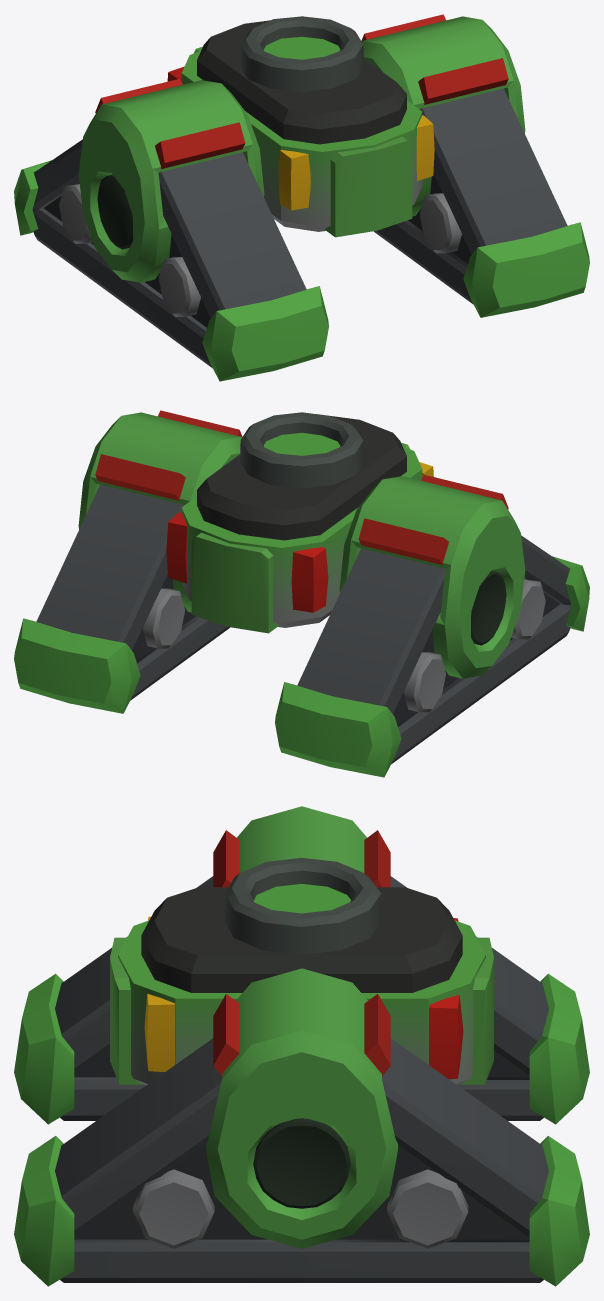
File: Caterpillar_1_LP.fbx
3 views of the same model, one above another, from view 1: azimuth 30°, elevation 25°; view 2: azimuth 150°, elevation 25°; view 3: azimuth 270°, elevation 25° (orthographic). The views are drawn at different scales.
Parts seen in each view (by area): view 1: Caterpillar_1_Base, Caterpillar_1_R, Caterpillar_1_L, Caterpillar_1; view 2: Caterpillar_1_Base, Caterpillar_1_R, Caterpillar_1_L, Caterpillar_1; view 3: Caterpillar_1_Base, Caterpillar_1_L, Caterpillar_1, Caterpillar_1_R.
Part boxes in pixels (<box>): Caterpillar_1_Base: <box>14,14,589,381</box>; Caterpillar_1_R: <box>32,139,306,368</box>; Caterpillar_1_L: <box>374,88,567,304</box>; Caterpillar_1: <box>59,174,461,316</box>; Caterpillar_1_Base: <box>14,410,589,777</box>; Caterpillar_1_R: <box>297,535,571,764</box>; Caterpillar_1_L: <box>36,484,229,700</box>; Caterpillar_1: <box>143,570,545,712</box>; Caterpillar_1_Base: <box>14,806,589,1286</box>; Caterpillar_1_L: <box>55,1038,548,1282</box>; Caterpillar_1: <box>133,1118,468,1248</box>; Caterpillar_1_R: <box>55,876,548,1120</box>.
Size of the model in its own units: 184 by 105 by 190.
